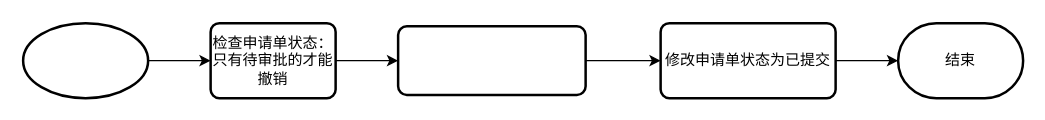
Image size: 1045x120. Some labels were removed from this diagram. The centre of each missing label's shape, as x and y in pixels:
开始: point (85, 60)
调用工单服务删除在途单: point (491, 60)
